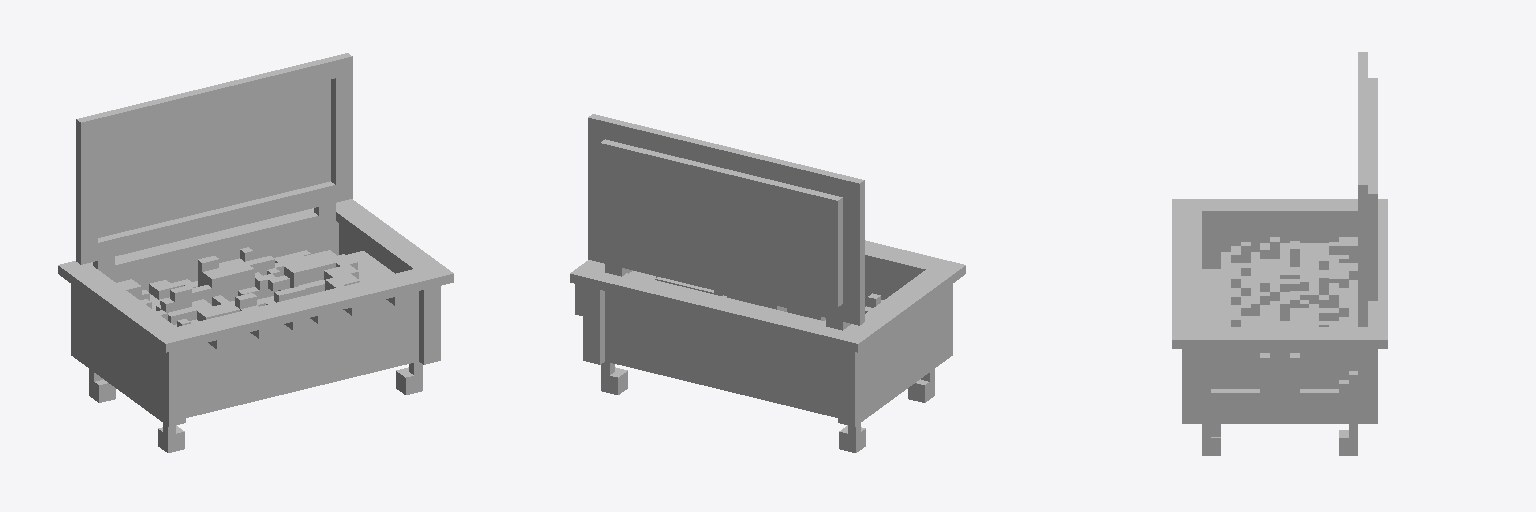
The model's file is Dumpster.obj.
3 renders of one model, left to right at view 1: azimuth 30°, elevation 25°; view 2: azimuth 150°, elevation 25°; view 3: azimuth 270°, elevation 25°, orthographic.
Parts seen in each view (by area): view 1: object 1; view 2: object 1; view 3: object 1.
Boxes of the visible parts, <box> form: object 1: <box>58,53,453,452</box>; object 1: <box>570,114,965,452</box>; object 1: <box>1172,52,1387,455</box>.
Bounding box in the file's own units: 3.4 × 3.1 × 2.2.